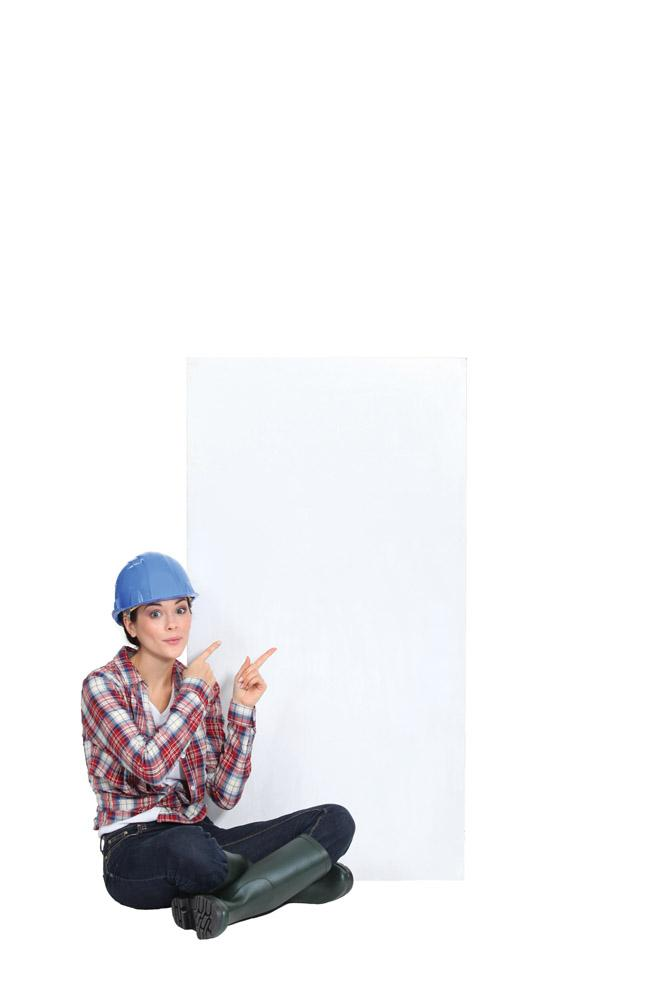helmet: (112, 551, 200, 627)
